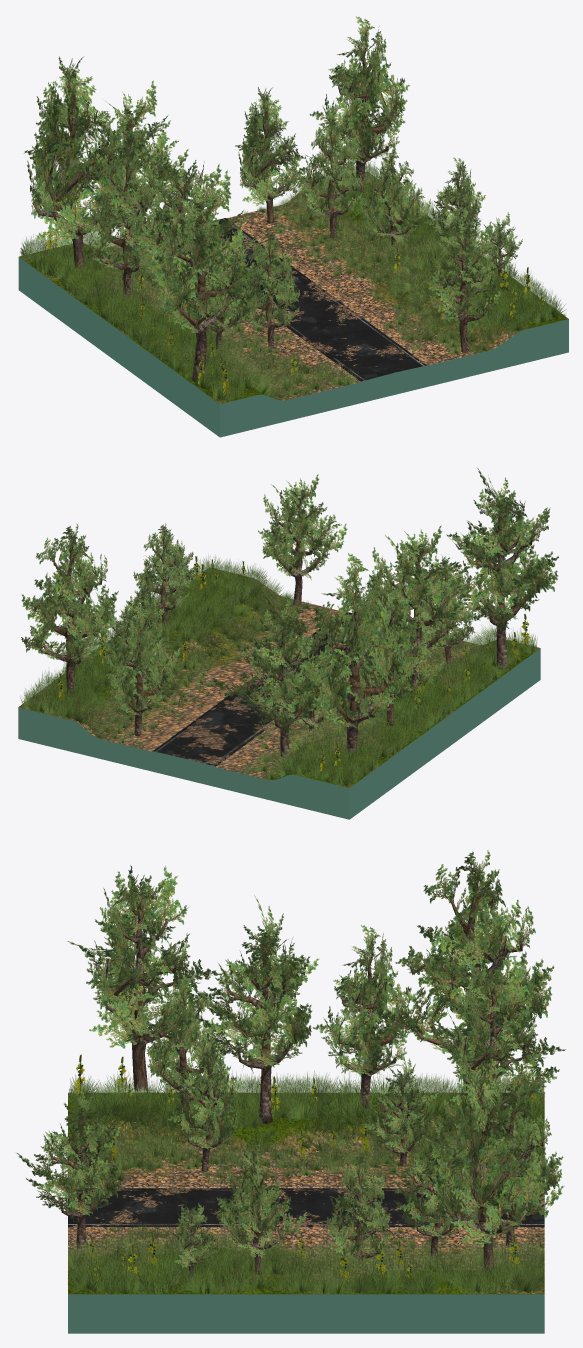
File: forest_road-transformed.glb
The picture shows the model from 3 angles, top to bottom: view 1: azimuth 30°, elevation 25°; view 2: azimuth 150°, elevation 25°; view 3: azimuth 270°, elevation 25°; orthographic projection. The views are drawn at different scales.
Visible parts, largest first — view 1: Trees, Grass, Ground, BgCutOut, Road, Flowers; view 2: Trees, Grass, Ground, BgCutOut, Road, Flowers; view 3: Trees, Grass, Ground, BgCutOut, Road, Flowers.
Part boxes in pixels (bbox=[...]): Trees: bbox=[24, 16, 522, 381]; Grass: bbox=[20, 161, 566, 401]; Ground: bbox=[19, 172, 568, 403]; BgCutOut: bbox=[18, 257, 568, 437]; Road: bbox=[192, 218, 426, 381]; Flowers: bbox=[45, 159, 543, 395]; Trees: bbox=[21, 468, 558, 757]; Grass: bbox=[20, 555, 537, 786]; Ground: bbox=[18, 567, 540, 787]; BgCutOut: bbox=[18, 648, 540, 819]; Road: bbox=[153, 612, 351, 766]; Flowers: bbox=[57, 556, 530, 772]; Trees: bbox=[16, 849, 565, 1280]; Grass: bbox=[67, 1070, 544, 1293]; Ground: bbox=[68, 1092, 544, 1294]; BgCutOut: bbox=[68, 1294, 544, 1333]; Road: bbox=[68, 1188, 544, 1226]; Flowers: bbox=[74, 1054, 537, 1286].
Size of the model in its own units: 4.73 by 2.75 by 4.66.
4 materials, 3 textured.
